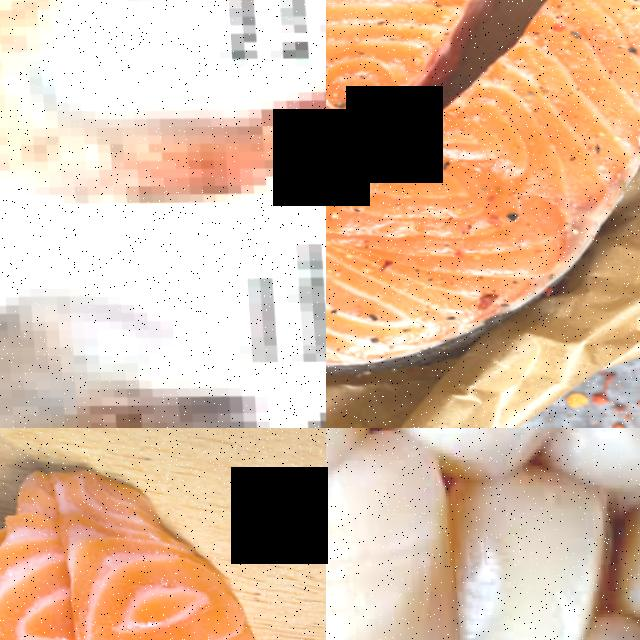salmon: (326, 0, 640, 396), (0, 468, 245, 640)
sea scallops: (449, 466, 611, 640), (326, 484, 463, 640)
